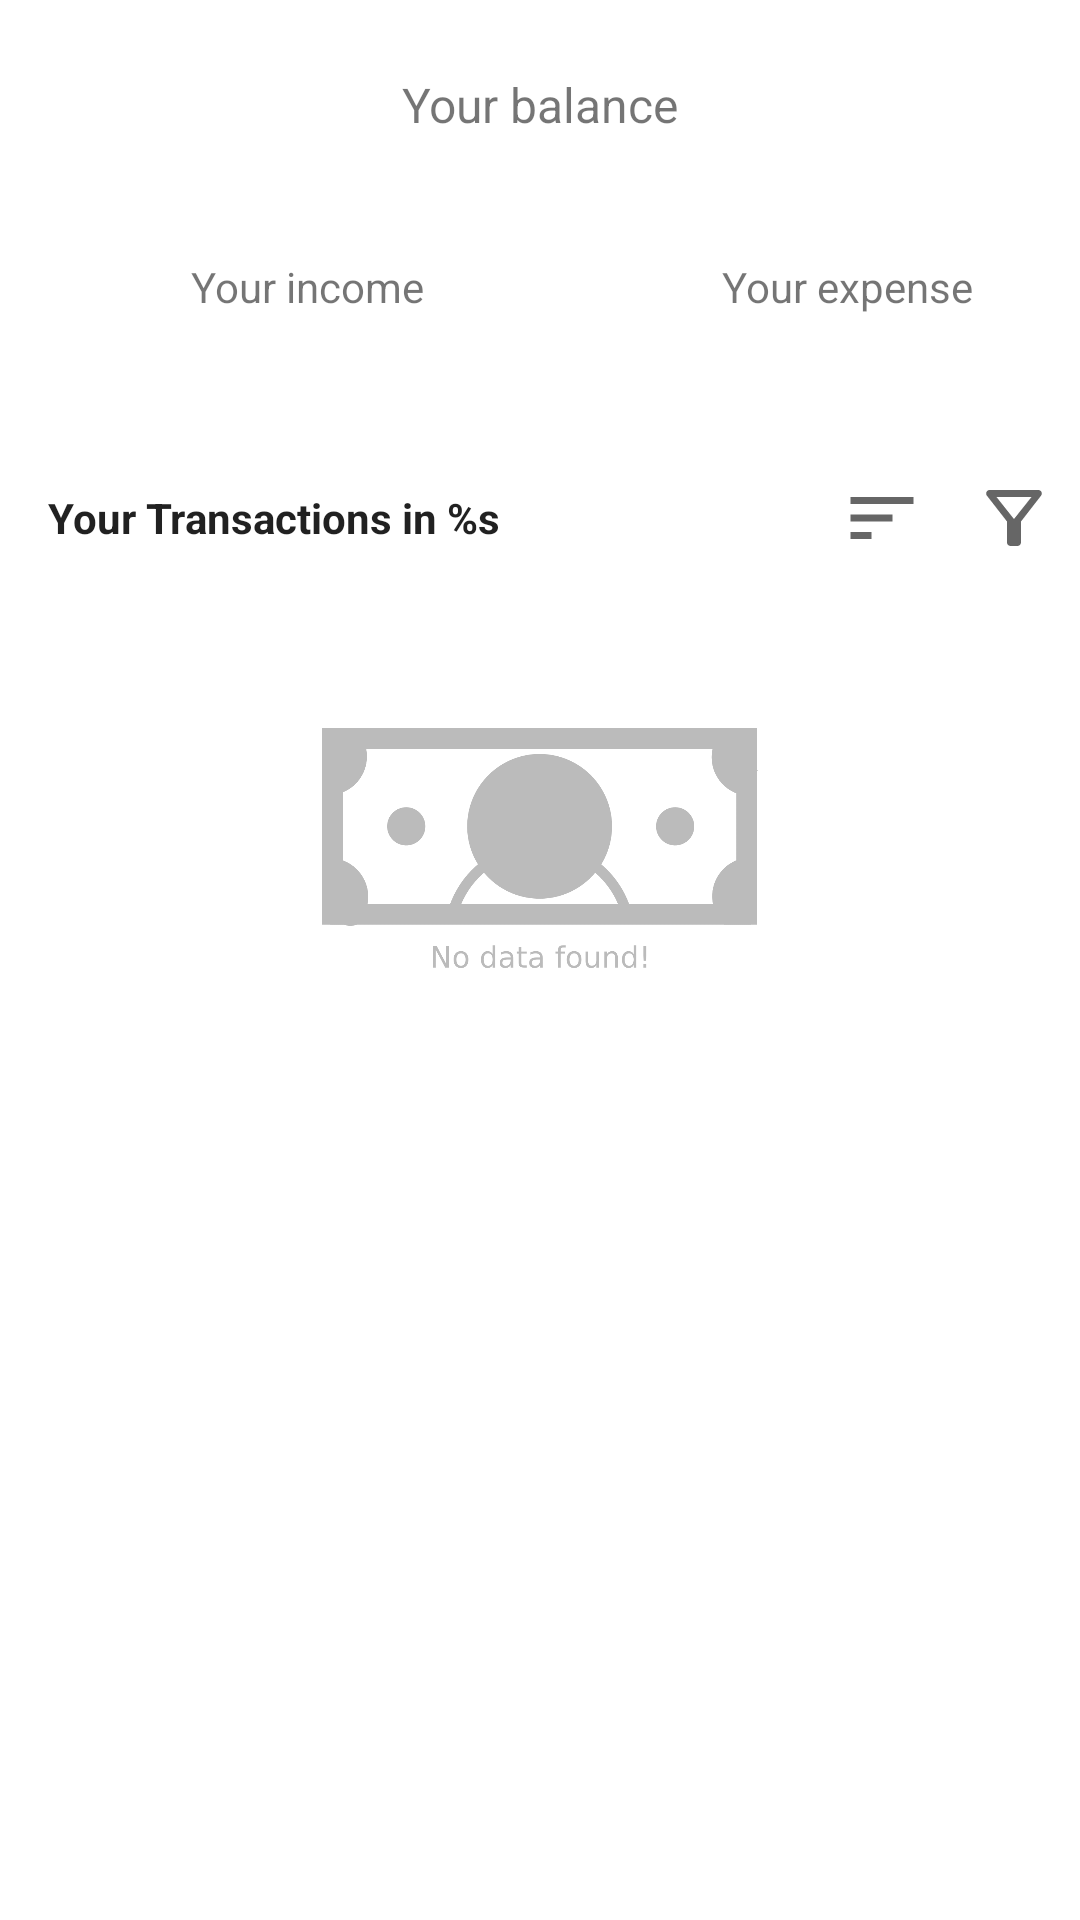

Named icons in this screenshot (1080×1920) and their centers, [x,y]:
Filter image: [1014,518]
Sort image: [882,518]
